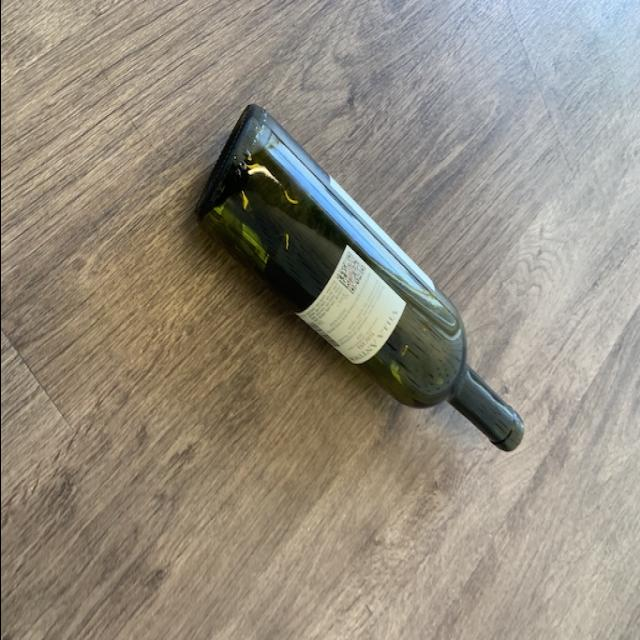litter: (193, 101, 523, 449)
